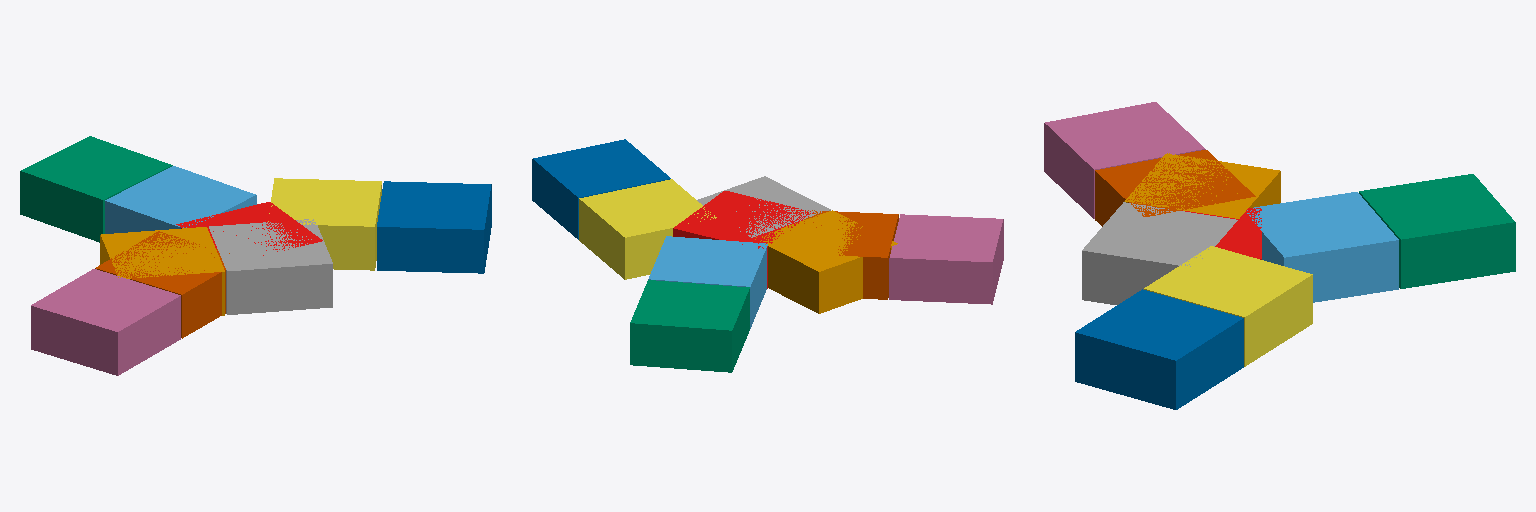
URDF robot description (Model_Models/Model_186.urdf9):
<?xml version='1.0' encoding='UTF-8'?>
<robot name="Model_Models/Model_186.urdf9">
  <link name="base_link">
    <inertial>
      <origin xyz="0.0 0.0 0.0" rpy="0.0 -0.0 0.0"/>
      <mass value="1.0"/>
      <inertia ixx="1.0" ixy="0.0" ixz="0.0" iyy="1.0" iyz="0.0" izz="1.0"/>
    </inertial>
    <visual>
      <geometry>
        <box size="0.67 0.67 0.3 "/>
      </geometry>
      <material name="red"/>
      <origin xyz="0.0 0.0 0.0" rpy="0.0 -0.0 0.0"/>
    </visual>
    <collision>
      <geometry>
        <box size="0.67 0.67 0.3 "/>
      </geometry>
      <origin xyz="0.0 0.0 0.0" rpy="0.0 0.0 0.0"/>
    </collision>
  </link>
  <link name="arm_0_arm1">
    <inertial>
      <origin xyz="0.0 0.34 0.0" rpy="0.0 0.0 0.0"/>
      <mass value="1.0"/>
      <inertia ixx="0.0" ixy="0.0" ixz="0.0" iyy="0.0" iyz="0.0" izz="0.0"/>
    </inertial>
    <visual>
      <geometry>
        <box size="0.67 0.67 0.3 "/>
      </geometry>
      <origin xyz="0.0 0.34 0.0" rpy="0.0 0.0 0.0"/>
    </visual>
    <collision>
      <geometry>
        <box size="0.67 0.67 0.3 "/>
      </geometry>
      <origin xyz="0.0 0.34 0.0" rpy="0.0 0.0 0.0"/>
    </collision>
  </link>
  <link name="arm_0_arm2">
    <inertial>
      <origin xyz="0.0 0.34 0.0" rpy="0.0 0.0 0.0"/>
      <mass value="1.0"/>
      <inertia ixx="0.0" ixy="0.0" ixz="0.0" iyy="0.0" iyz="0.0" izz="0.0"/>
    </inertial>
    <visual>
      <geometry>
        <box size="0.67 0.67 0.3 "/>
      </geometry>
      <origin xyz="0.0 0.34 0.0" rpy="0.0 0.0 0.0"/>
    </visual>
    <collision>
      <geometry>
        <box size="0.67 0.67 0.3 "/>
      </geometry>
      <origin xyz="0.0 0.34 0.0" rpy="0.0 0.0 0.0"/>
    </collision>
  </link>
  <link name="arm_2_arm1">
    <inertial>
      <origin xyz="0.0 0.34 0.0" rpy="0.0 0.0 0.0"/>
      <mass value="1.0"/>
      <inertia ixx="0.0" ixy="0.0" ixz="0.0" iyy="0.0" iyz="0.0" izz="0.0"/>
    </inertial>
    <visual>
      <geometry>
        <box size="0.67 0.67 0.3 "/>
      </geometry>
      <origin xyz="0.0 0.34 0.0" rpy="0.0 0.0 0.0"/>
    </visual>
    <collision>
      <geometry>
        <box size="0.67 0.67 0.3 "/>
      </geometry>
      <origin xyz="0.0 0.34 0.0" rpy="0.0 0.0 0.0"/>
    </collision>
  </link>
  <link name="arm_2_arm2">
    <inertial>
      <origin xyz="0.0 0.34 0.0" rpy="0.0 0.0 0.0"/>
      <mass value="1.0"/>
      <inertia ixx="0.0" ixy="0.0" ixz="0.0" iyy="0.0" iyz="0.0" izz="0.0"/>
    </inertial>
    <visual>
      <geometry>
        <box size="0.67 0.67 0.3 "/>
      </geometry>
      <origin xyz="0.0 0.34 0.0" rpy="0.0 0.0 0.0"/>
    </visual>
    <collision>
      <geometry>
        <box size="0.67 0.67 0.3 "/>
      </geometry>
      <origin xyz="0.0 0.34 0.0" rpy="0.0 0.0 0.0"/>
    </collision>
  </link>
  <link name="arm_3_arm1">
    <inertial>
      <origin xyz="0.0 0.34 0.0" rpy="0.0 0.0 0.0"/>
      <mass value="1.0"/>
      <inertia ixx="0.0" ixy="0.0" ixz="0.0" iyy="0.0" iyz="0.0" izz="0.0"/>
    </inertial>
    <visual>
      <geometry>
        <box size="0.67 0.67 0.3 "/>
      </geometry>
      <origin xyz="0.0 0.34 0.0" rpy="0.0 0.0 0.0"/>
    </visual>
    <collision>
      <geometry>
        <box size="0.67 0.67 0.3 "/>
      </geometry>
      <origin xyz="0.0 0.34 0.0" rpy="0.0 0.0 0.0"/>
    </collision>
  </link>
  <link name="arm_3_arm2">
    <inertial>
      <origin xyz="0.0 0.34 0.0" rpy="0.0 0.0 0.0"/>
      <mass value="1.0"/>
      <inertia ixx="0.0" ixy="0.0" ixz="0.0" iyy="0.0" iyz="0.0" izz="0.0"/>
    </inertial>
    <visual>
      <geometry>
        <box size="0.67 0.67 0.3 "/>
      </geometry>
      <origin xyz="0.0 0.34 0.0" rpy="0.0 0.0 0.0"/>
    </visual>
    <collision>
      <geometry>
        <box size="0.67 0.67 0.3 "/>
      </geometry>
      <origin xyz="0.0 0.34 0.0" rpy="0.0 0.0 0.0"/>
    </collision>
  </link>
  <link name="arm_Permutation_9_arm1">
    <inertial>
      <origin xyz="0.0 0.34 0.0" rpy="0.0 0.0 0.0"/>
      <mass value="1.0"/>
      <inertia ixx="0.0" ixy="0.0" ixz="0.0" iyy="0.0" iyz="0.0" izz="0.0"/>
    </inertial>
    <visual>
      <geometry>
        <box size="0.67 0.67 0.3 "/>
      </geometry>
      <origin xyz="0.0 0.34 0.0" rpy="0.0 0.0 0.0"/>
    </visual>
    <collision>
      <geometry>
        <box size="0.67 0.67 0.3 "/>
      </geometry>
      <origin xyz="0.0 0.34 0.0" rpy="0.0 0.0 0.0"/>
    </collision>
  </link>
  <link name="arm_Permutation_9_arm2">
    <inertial>
      <origin xyz="0.0 0.34 0.0" rpy="0.0 0.0 0.0"/>
      <mass value="1.0"/>
      <inertia ixx="0.0" ixy="0.0" ixz="0.0" iyy="0.0" iyz="0.0" izz="0.0"/>
    </inertial>
    <visual>
      <geometry>
        <box size="0.67 0.67 0.3 "/>
      </geometry>
      <origin xyz="0.0 0.34 0.0" rpy="0.0 0.0 0.0"/>
    </visual>
    <collision>
      <geometry>
        <box size="0.67 0.67 0.3 "/>
      </geometry>
      <origin xyz="0.0 0.34 0.0" rpy="0.0 0.0 0.0"/>
    </collision>
  </link>
  <joint name="arm_0_jointBase" type="fixed">
    <limit effort="1.57" velocity="1.57" lower="-1.57" upper="1.57"/>
    <parent link="base_link"/>
    <child link="arm_0_arm1"/>
    <axis xyz="1. 0. 0."/>
    <origin xyz="0.0 0.34 0.0" rpy="0.0 0.0 0.35"/>
  </joint>
  <joint name="arm_0_joint1" type="revolute">
    <limit effort="1.57" velocity="1.57" lower="-1.57" upper="1.57"/>
    <parent link="arm_0_arm1"/>
    <child link="arm_0_arm2"/>
    <axis xyz="1. 0. 0."/>
    <origin xyz="0.0 0.68 0.0" rpy="0.0 0.0 0.0"/>
  </joint>
  <joint name="arm_2_jointBase" type="fixed">
    <limit effort="1.57" velocity="1.57" lower="-1.57" upper="1.57"/>
    <parent link="base_link"/>
    <child link="arm_2_arm1"/>
    <axis xyz="1. 0. 0."/>
    <origin xyz="0.34 0.34 0.0" rpy="0.0 0.0 -2.16"/>
  </joint>
  <joint name="arm_2_joint1" type="revolute">
    <limit effort="1.57" velocity="1.57" lower="-1.57" upper="1.57"/>
    <parent link="arm_2_arm1"/>
    <child link="arm_2_arm2"/>
    <axis xyz="1. 0. 0."/>
    <origin xyz="0.0 0.68 0.0" rpy="0.0 0.0 0.0"/>
  </joint>
  <joint name="arm_3_jointBase" type="fixed">
    <limit effort="1.57" velocity="1.57" lower="-1.57" upper="1.57"/>
    <parent link="base_link"/>
    <child link="arm_3_arm1"/>
    <axis xyz="1. 0. 0."/>
    <origin xyz="-0.34 0.0 0.0" rpy="0.0 0.0 1.99"/>
  </joint>
  <joint name="arm_3_joint1" type="revolute">
    <limit effort="1.57" velocity="1.57" lower="-1.57" upper="1.57"/>
    <parent link="arm_3_arm1"/>
    <child link="arm_3_arm2"/>
    <axis xyz="1. 0. 0."/>
    <origin xyz="0.0 0.68 0.0" rpy="0.0 0.0 0.0"/>
  </joint>
  <joint name="arm_Permutation_9_jointBase" type="fixed">
    <limit effort="1.57" velocity="1.57" lower="-1.57" upper="1.57"/>
    <parent link="base_link"/>
    <child link="arm_Permutation_9_arm1"/>
    <axis xyz="1. 0. 0."/>
    <origin xyz="0.34 -0.34 0.0" rpy="0.0 0.0 1.22"/>
  </joint>
  <joint name="arm_Permutation_9_joint1" type="revolute">
    <limit effort="1.57" velocity="1.57" lower="-1.57" upper="1.57"/>
    <parent link="arm_Permutation_9_arm1"/>
    <child link="arm_Permutation_9_arm2"/>
    <axis xyz="1. 0. 0."/>
    <origin xyz="0.0 0.68 0.0" rpy="0.0 0.0 0.0"/>
  </joint>
  <material name="red">
    <color rgba="0.969 0.129 0.122 1.   "/>
  </material>
</robot>

--- What the picture shows (computed from the rendered views, not written in the file) ---
The picture shows the robot from 3 angles, left to right: view 1: azimuth 30°, elevation 25°; view 2: azimuth 150°, elevation 25°; view 3: azimuth 270°, elevation 25°; orthographic projection.
Model Model_Models/Model_186.urdf9 with 9 links and 8 joints (4 revolute, 4 fixed), rooted at base_link, posed all joints at 0.
Links seen in each view (by area): view 1: arm_3_arm2, arm_2_arm2, arm_Permutation_9_arm1, arm_0_arm2, arm_2_arm1, arm_0_arm1, arm_Permutation_9_arm2, arm_3_arm1, base_link; view 2: arm_0_arm2, arm_3_arm2, arm_2_arm1, arm_Permutation_9_arm2, arm_2_arm2, arm_0_arm1, base_link, arm_3_arm1, arm_Permutation_9_arm1; view 3: arm_2_arm2, arm_0_arm2, arm_0_arm1, arm_2_arm1, arm_Permutation_9_arm1, arm_3_arm2, arm_3_arm1, arm_Permutation_9_arm2, base_link.
Link boxes in pixels (box(x1,y1,x2,y2)): arm_3_arm2: box(31, 269, 180, 375); arm_2_arm2: box(377, 181, 491, 273); arm_Permutation_9_arm1: box(209, 219, 332, 314); arm_0_arm2: box(20, 136, 172, 242); arm_2_arm1: box(268, 178, 381, 270); arm_0_arm1: box(105, 166, 256, 233); arm_Permutation_9_arm2: box(100, 227, 224, 315); arm_3_arm1: box(95, 231, 229, 338); base_link: box(176, 202, 322, 255); arm_0_arm2: box(630, 280, 749, 372); arm_3_arm2: box(889, 214, 1003, 304); arm_2_arm1: box(579, 179, 716, 279); arm_Permutation_9_arm2: box(755, 210, 897, 313); arm_2_arm2: box(532, 139, 670, 239); arm_0_arm1: box(648, 236, 767, 328); base_link: box(673, 191, 813, 288); arm_3_arm1: box(790, 210, 898, 299); arm_Permutation_9_arm1: box(697, 176, 830, 237); arm_2_arm2: box(1075, 289, 1243, 409); arm_0_arm2: box(1359, 174, 1515, 288); arm_0_arm1: box(1247, 192, 1398, 302); arm_2_arm1: box(1144, 246, 1312, 366); arm_Permutation_9_arm1: box(1082, 202, 1237, 304); arm_3_arm2: box(1044, 102, 1205, 218); arm_3_arm1: box(1095, 150, 1255, 226); arm_Permutation_9_arm2: box(1124, 153, 1280, 218); base_link: box(1182, 208, 1261, 259).
Size in the robot's own frame: 3.37 by 2.59 by 0.3 metres.
Geometry: primitives only (box / cylinder / sphere), no mesh files.